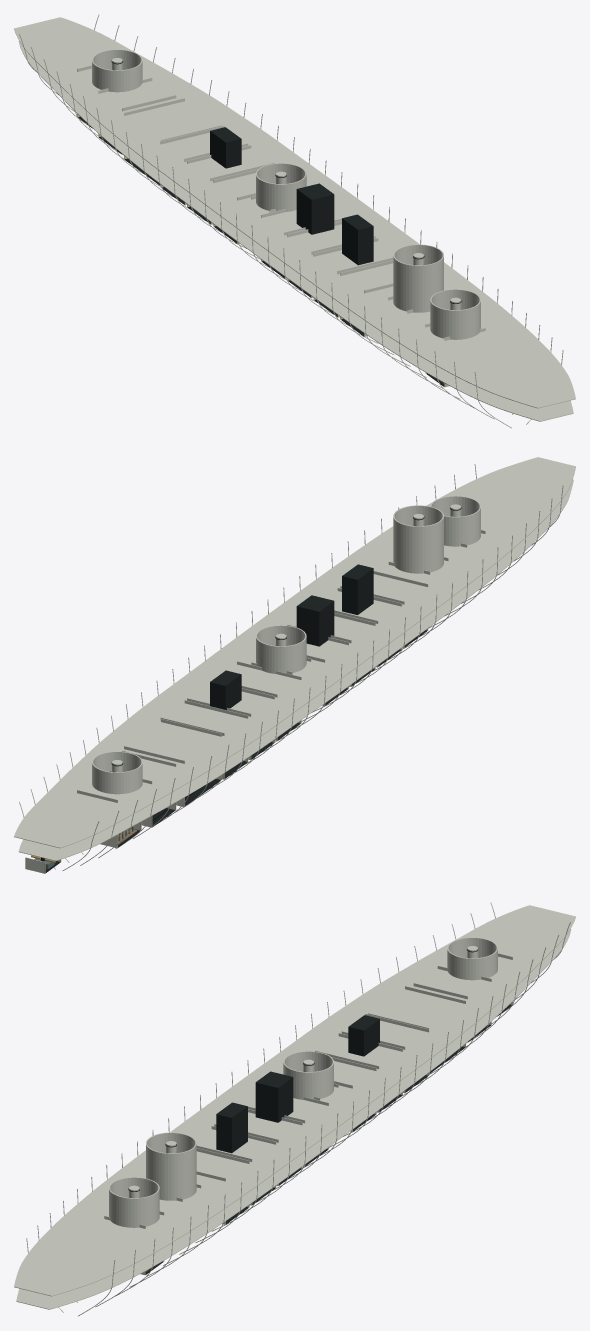
File: QueenMary_v4_Interior.fbx
3 views of the same model, one above another, from view 1: azimuth 30°, elevation 25°; view 2: azimuth 150°, elevation 25°; view 3: azimuth 330°, elevation 25° (orthographic).
Visible parts, largest first — view 1: Interior_Frames_Bulkheads; view 2: Interior_Frames_Bulkheads; view 3: Interior_Frames_Bulkheads.
Part boxes in pixels (x1,y1,x2,y2): Interior_Frames_Bulkheads: (14, 14, 575, 428); Interior_Frames_Bulkheads: (14, 457, 575, 873); Interior_Frames_Bulkheads: (14, 902, 575, 1316).
Bounding box in the file's own units: 26.73 × 21.79 × 197.
7 materials, 1 textured.
